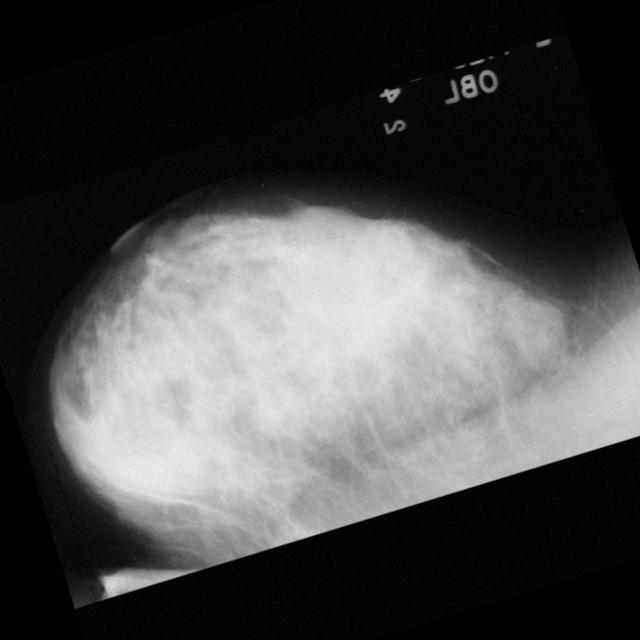CALC: (458, 324, 520, 386)
